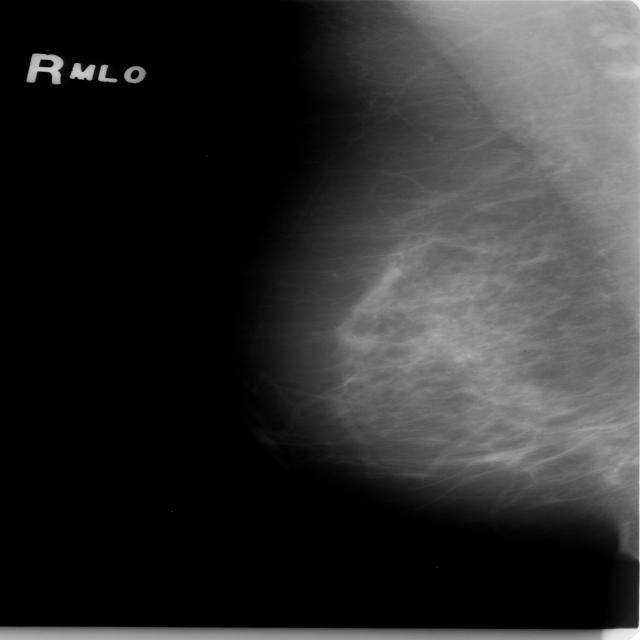normal: (263, 28, 640, 539)
